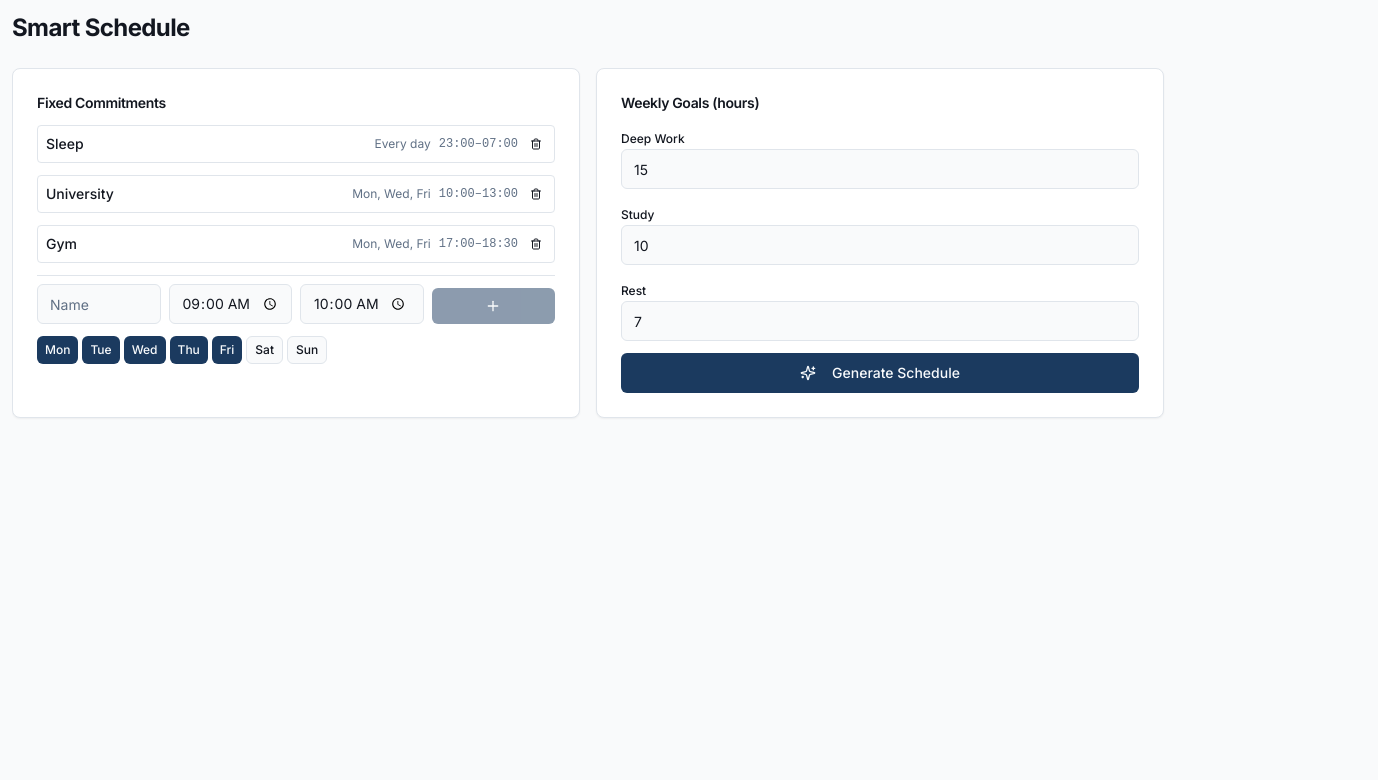
Scenario: Smart Schedule generation › says nothing about shortfall when every hour fit
Click the button "Generate Schedule".
click(880, 373)  # box x1=621 y1=353 x2=1139 y2=393
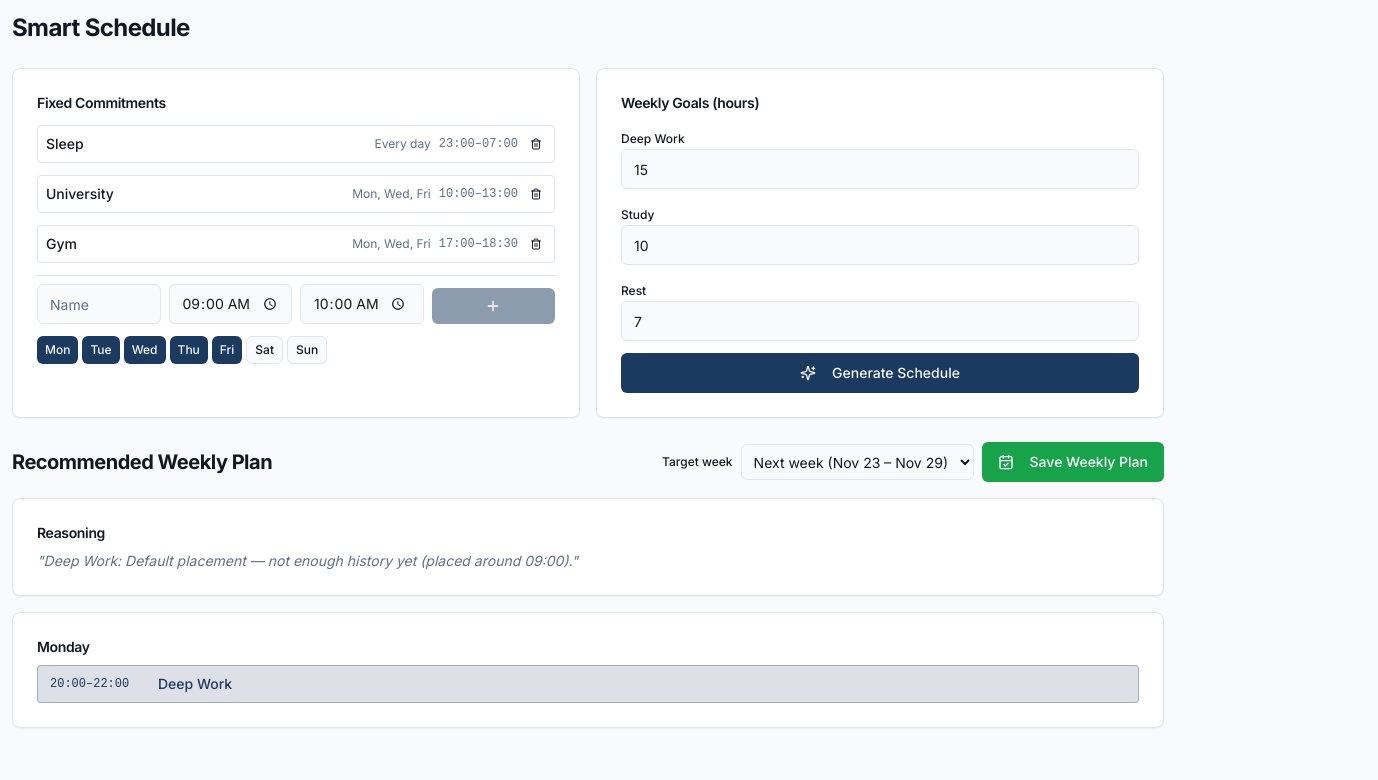
Now the heading "Recommended Weekly Plan" is shown, box x1=12 y1=448 x2=272 y2=476
